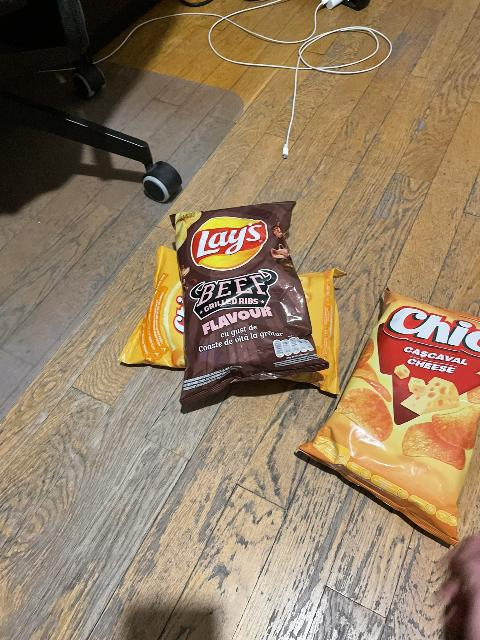Chio Cascaval 125g: (297, 287, 480, 552)
Chio Hula Hoops Cheese 70g: (121, 246, 347, 395)
Lays Beef Grilled Ribs 125g: (170, 199, 329, 398)
